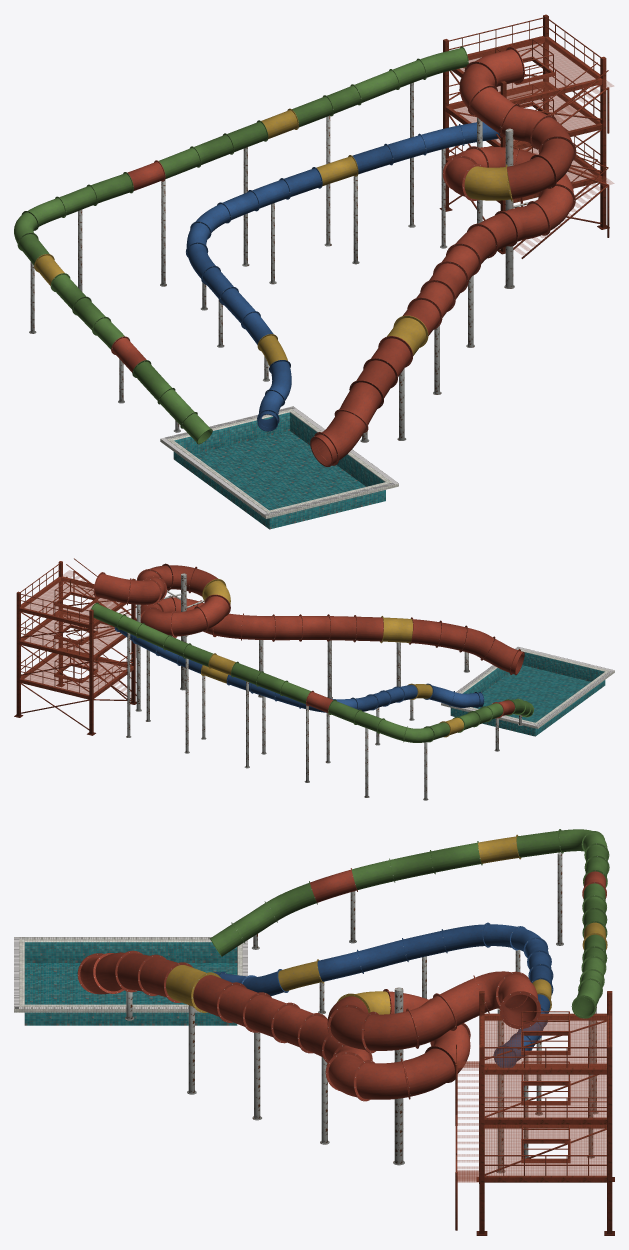
File: sala_torre_scivoli.gltf
3 renders of one model, top to bottom at view 1: azimuth 30°, elevation 25°; view 2: azimuth 150°, elevation 25°; view 3: azimuth 270°, elevation 25°, orthographic. The views are drawn at different scales.
Parts seen in each view (by area): view 1: sala_scivolo_spirale, sala_scivolo_grande, sala_scivolo_medio, sala_torre, arrivo_bordi, sala_sostegni_scivoli, sala_vasca_arrivo_fondo, sala_torre_grigliati; view 2: sala_scivolo_spirale, sala_torre, sala_scivolo_grande, sala_torre_grigliati, sala_sostegni_scivoli, arrivo_bordi, sala_scivolo_medio, sala_vasca_arrivo_fondo; view 3: sala_scivolo_spirale, sala_torre_grigliati, sala_scivolo_grande, sala_torre, arrivo_bordi, sala_scivolo_medio, sala_sostegni_scivoli, sala_vasca_arrivo_fondo.
Boxes of the visible parts, <box> form: sala_scivolo_spirale: <box>310,47,576,466</box>; sala_scivolo_grande: <box>14,46,468,444</box>; sala_scivolo_medio: <box>186,122,500,431</box>; sala_torre: <box>439,14,609,258</box>; arrivo_bordi: <box>160,406,398,529</box>; sala_sostegni_scivoli: <box>29,82,536,442</box>; sala_vasca_arrivo_fondo: <box>193,431,365,510</box>; sala_torre_grigliati: <box>447,36,613,254</box>; sala_scivolo_spirale: <box>93,563,524,675</box>; sala_torre: <box>14,558,136,735</box>; sala_scivolo_grande: <box>91,602,533,742</box>; sala_torre_grigliati: <box>20,570,136,697</box>; sala_sostegni_scivoli: <box>126,573,522,800</box>; arrivo_bordi: <box>441,646,614,736</box>; sala_scivolo_medio: <box>114,627,484,712</box>; sala_vasca_arrivo_fondo: <box>474,665,590,722</box>; sala_scivolo_spirale: <box>77,950,540,1101</box>; sala_torre_grigliati: <box>456,1014,608,1182</box>; sala_scivolo_grande: <box>209,829,609,1018</box>; sala_torre: <box>455,991,614,1235</box>; arrivo_bordi: <box>14,937,247,1025</box>; sala_scivolo_medio: <box>214,922,553,1067</box>; sala_sostegni_scivoli: <box>124,852,598,1173</box>; sala_vasca_arrivo_fondo: <box>24,963,237,1004</box>.
Size of what is drawn, in the model's own units: 33.55 by 12.58 by 28.25.
12 materials, 11 textured.
